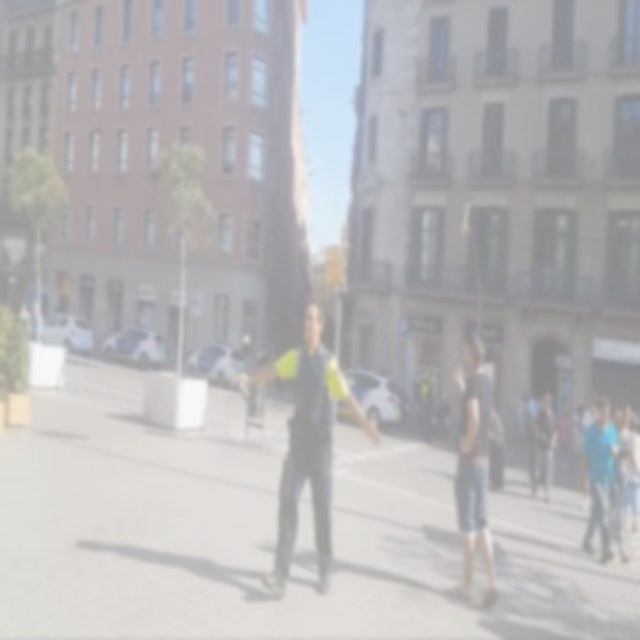pessoa: (226, 296, 384, 600), (446, 330, 502, 611), (580, 393, 620, 564), (604, 401, 632, 564), (530, 392, 556, 507), (578, 389, 598, 512), (620, 412, 640, 534), (420, 373, 434, 445), (256, 343, 274, 399), (556, 402, 570, 473), (572, 402, 586, 473), (524, 390, 536, 448), (29, 300, 43, 343), (490, 396, 504, 438), (411, 369, 422, 420), (516, 390, 526, 444), (608, 402, 622, 427), (374, 364, 394, 378), (18, 301, 28, 320), (536, 396, 544, 412), (630, 411, 640, 422)
